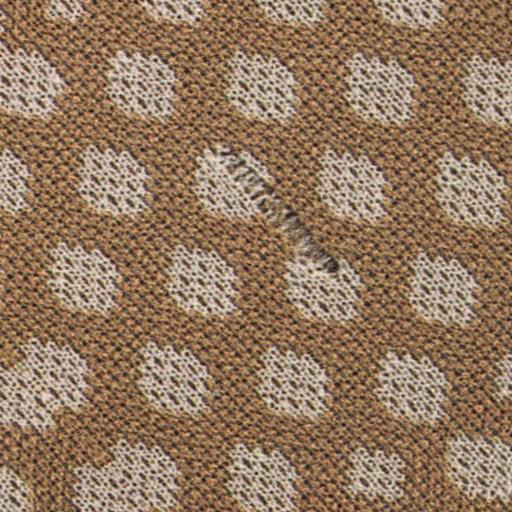slub: (207, 125, 357, 305)
